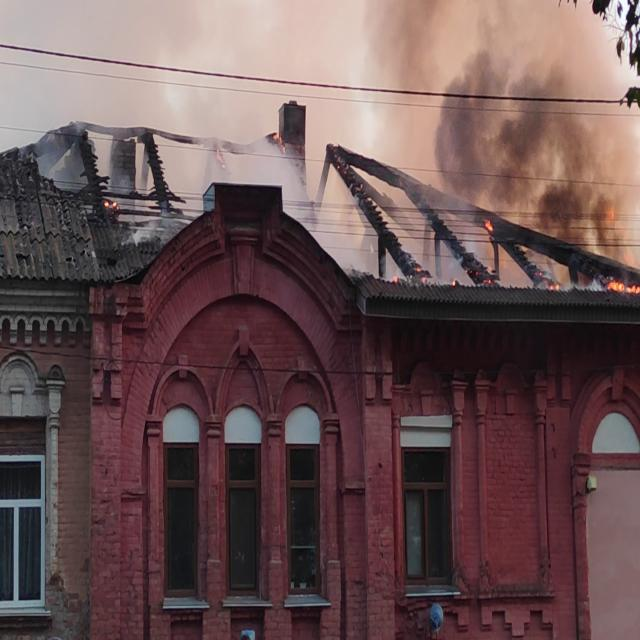fire: (601, 197, 640, 299)
smoke: (439, 7, 598, 242)
